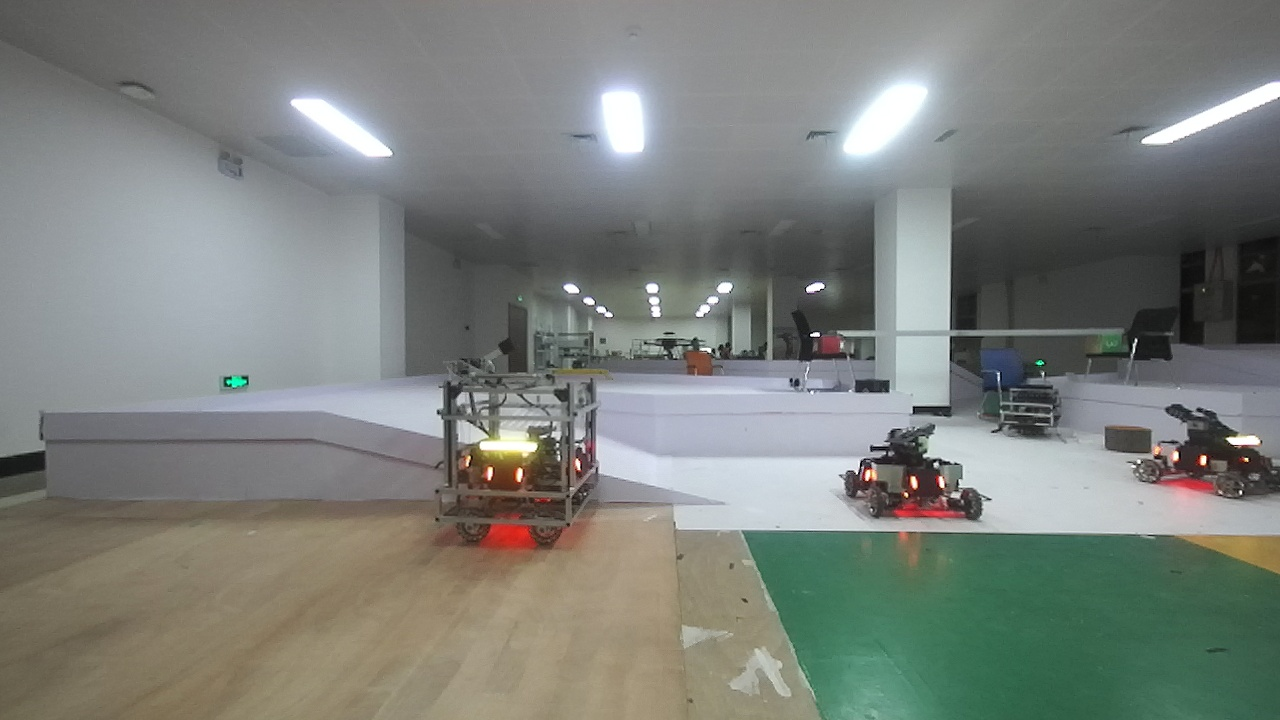car: (420, 364, 615, 555), (847, 427, 997, 540), (1138, 403, 1279, 509)
